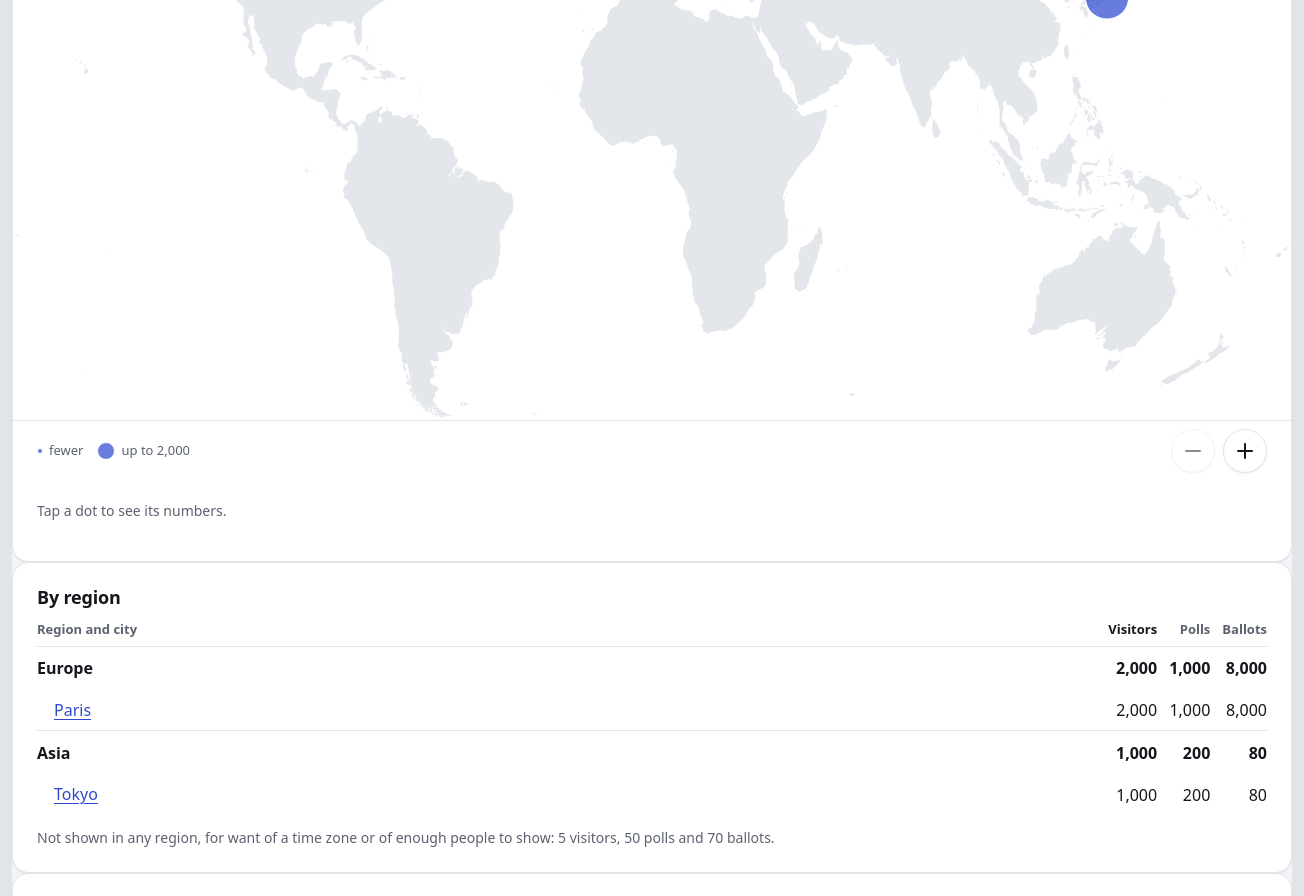
Scenario: the statistics page › zooms in and out
This screenshot has width=1304, height=896.
(page scrolled)
Expected: the button named "Zoom out" is disabled, 1171,428 -> 1215,472
Click the button named "Zoom in".
click(1245, 450)  # box 1223,428 -> 1267,472
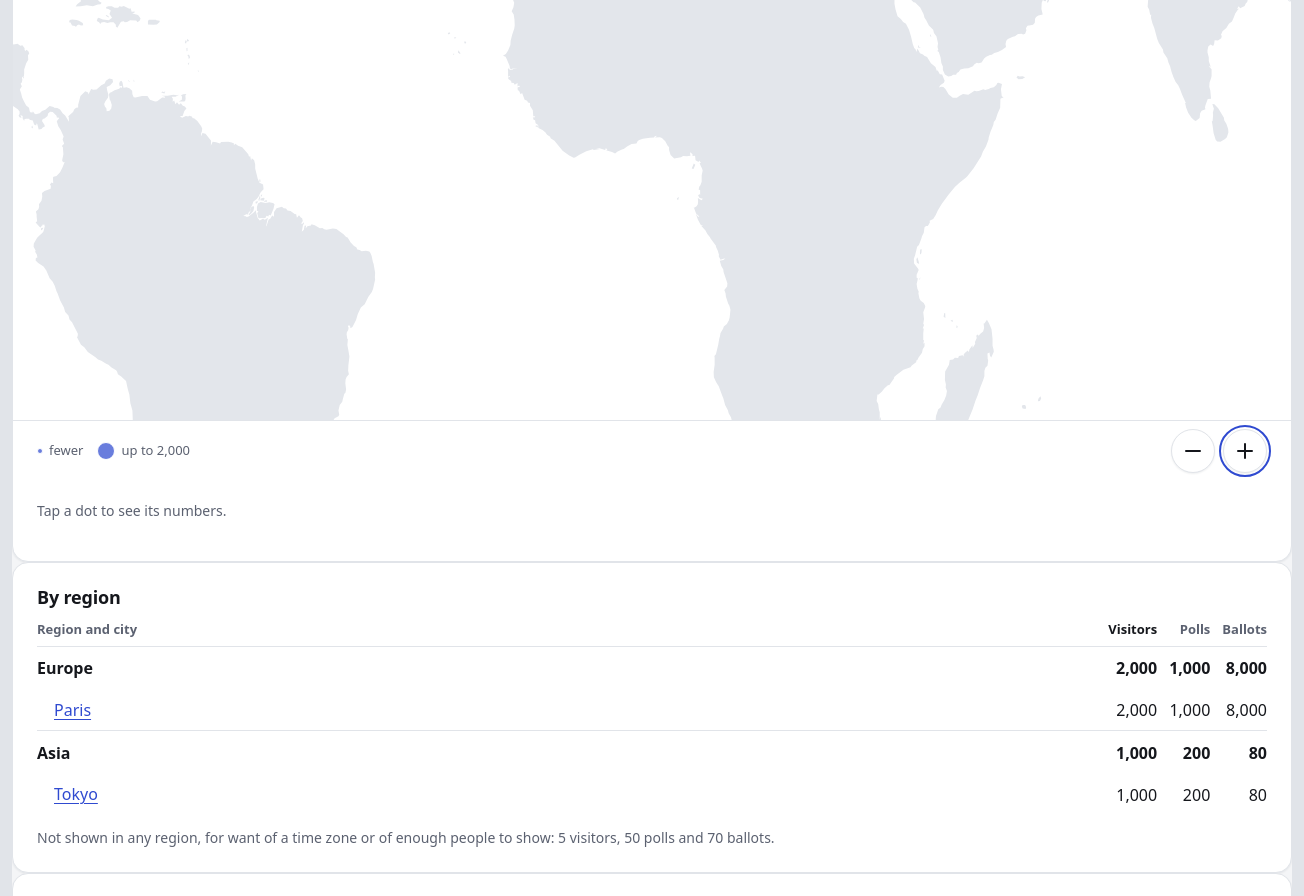
Expected: the button named "Zoom out" is enabled, 1171,428 -> 1215,472
